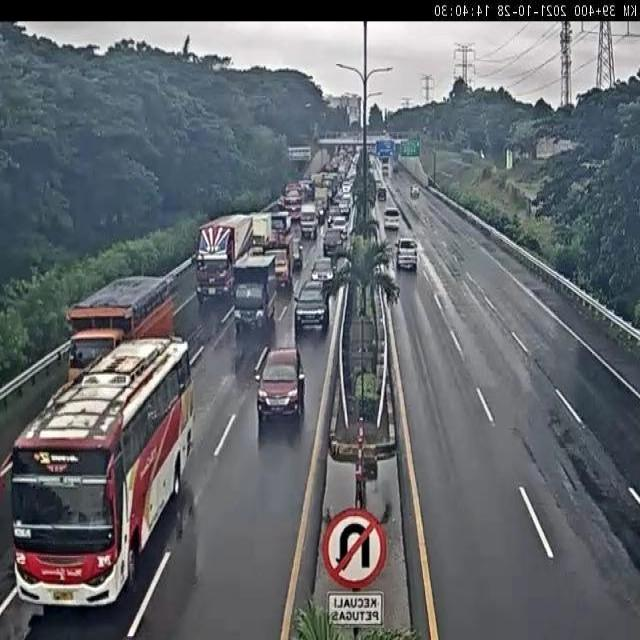Bus: (12, 336, 196, 606)
Car: (256, 348, 306, 422), (293, 280, 330, 331), (396, 237, 418, 272), (311, 257, 335, 286), (321, 228, 344, 258), (382, 208, 402, 232), (330, 216, 350, 239)
Truck: (60, 275, 175, 385), (191, 210, 255, 304), (231, 252, 277, 333), (280, 182, 309, 223), (301, 201, 319, 238)
